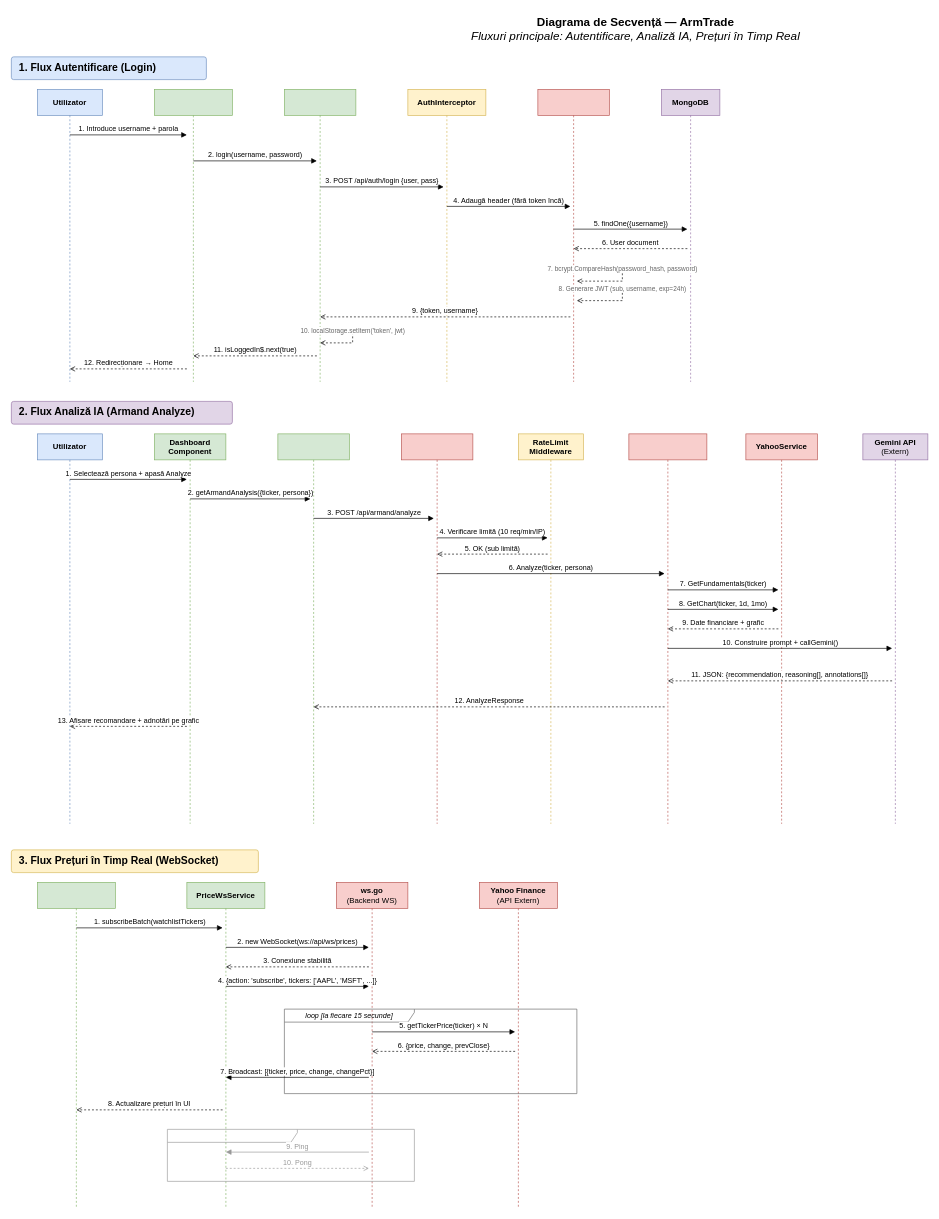
Image size: 939x1219. Some labels were removed from this diagram. Here are the shapes that lost their labels. From the top down, the box of each, then its label:
(154, 89, 232, 382): LoginComponent
(284, 89, 356, 382): AuthService
(537, 89, 609, 382): Backend API (auth.go)
(277, 433, 349, 824): StockService
(401, 433, 473, 824): handlers.go (Backend)
(628, 433, 707, 824): ArmandService
(37, 882, 115, 1207): HomeComponent
(167, 1129, 414, 1181): loop [la fiecare 30 secunde]
